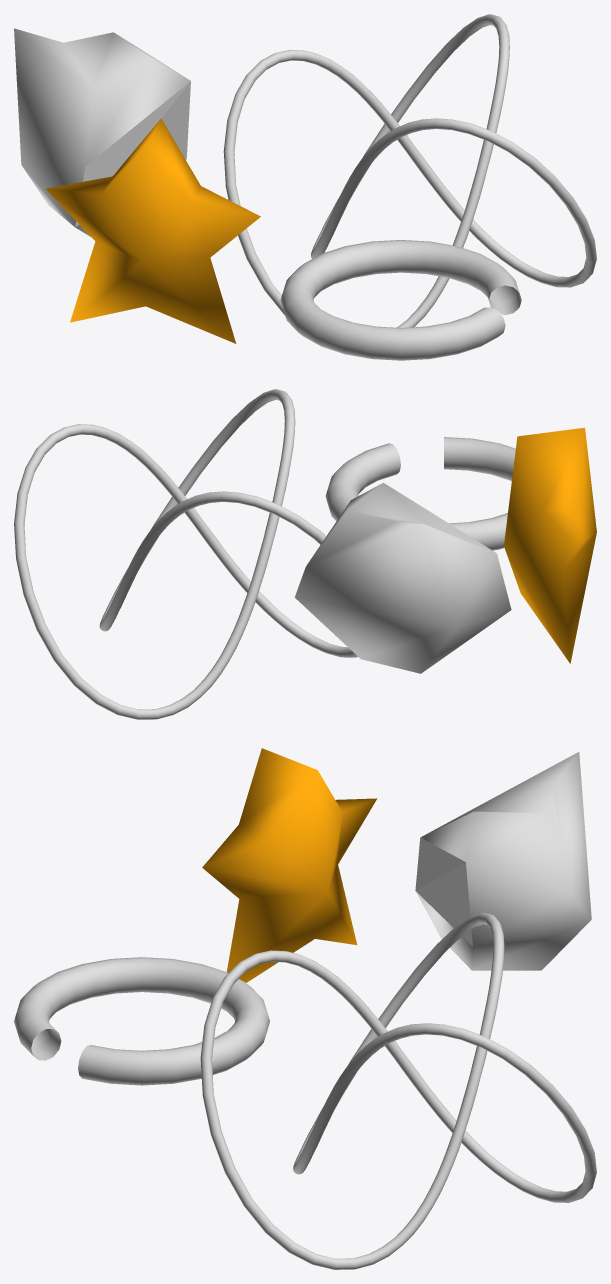
The model's file is star.fbx.
3 views of the same model, one above another, from view 1: azimuth 30°, elevation 25°; view 2: azimuth 150°, elevation 25°; view 3: azimuth 270°, elevation 25° (orthographic). The views are drawn at different scales.
Parts seen in each view (by area): view 1: Box001, Box002, Torus Knot001, Torus001; view 2: Box002, Torus Knot001, Box001, Torus001; view 3: Box002, Box001, Torus Knot001, Torus001.
Part boxes in pixels (x1,y1,x2,y2): Box001: [45, 118, 260, 343]; Box002: [14, 28, 190, 236]; Torus Knot001: [223, 14, 596, 327]; Torus001: [280, 240, 521, 360]; Box002: [294, 482, 511, 673]; Torus Knot001: [14, 389, 357, 719]; Box001: [504, 427, 596, 663]; Torus001: [325, 437, 515, 550]; Box002: [415, 752, 591, 970]; Box001: [202, 748, 377, 982]; Torus Knot001: [200, 912, 596, 1269]; Torus001: [14, 957, 269, 1085].
Size of the model in its own units: 219 by 117 by 208.
